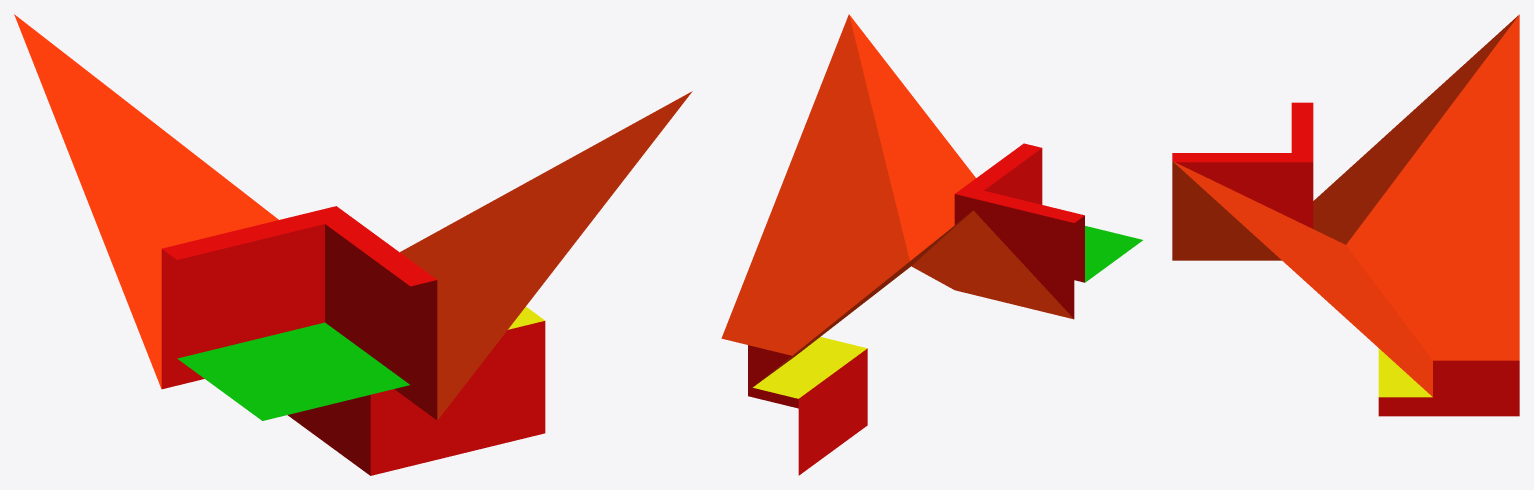
3 views of the same model, side by side, from view 1: azimuth 30°, elevation 25°; view 2: azimuth 150°, elevation 25°; view 3: azimuth 270°, elevation 25° (orthographic). The views are drawn at different scales.
Visible parts, largest first — view 1: None_E_S_E_E_S_W_E_E_None; view 2: None_E_S_E_E_S_W_E_E_None; view 3: None_E_S_E_E_S_W_E_E_None.
Part boxes in pixels (<box>): None_E_S_E_E_S_W_E_E_None: <box>14,14,692,475</box>; None_E_S_E_E_S_W_E_E_None: <box>721,14,1142,475</box>; None_E_S_E_E_S_W_E_E_None: <box>1172,14,1519,416</box>.
Size of the model in its own units: 100 by 100 by 100.
